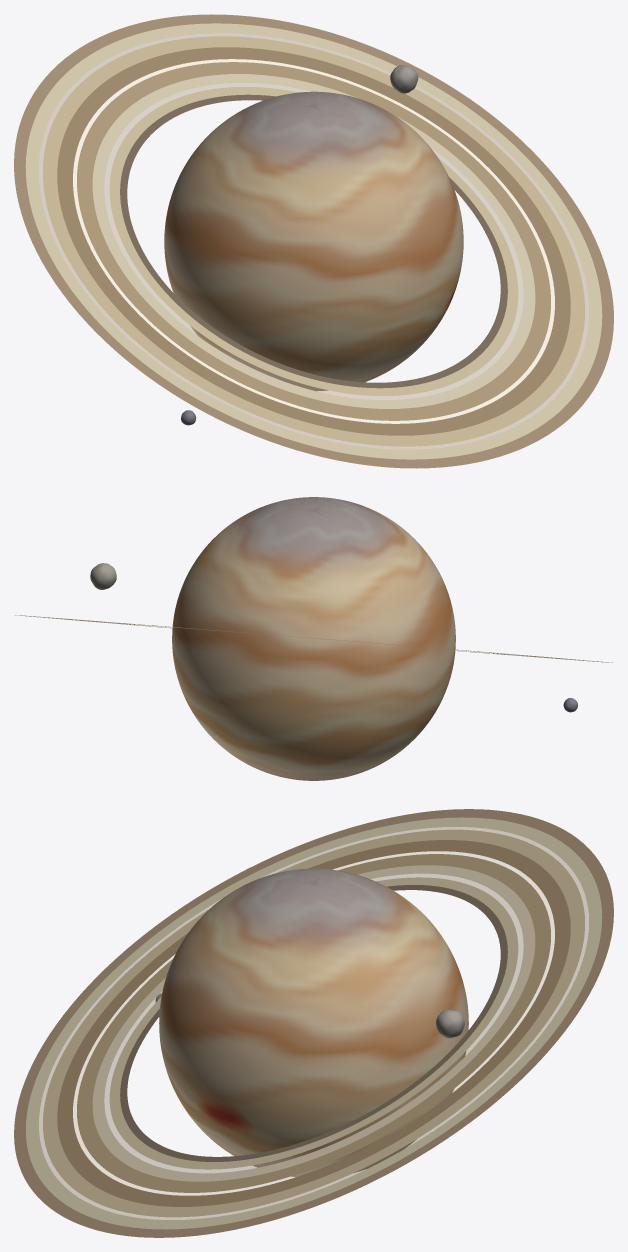
File: world-space.glb
The picture shows the model from 3 angles, top to bottom: view 1: azimuth 30°, elevation 25°; view 2: azimuth 150°, elevation 25°; view 3: azimuth 270°, elevation 25°; orthographic projection. The views are drawn at different scales.
Visible parts, largest first — view 1: ringed-planet.body; view 2: ringed-planet.body; view 3: ringed-planet.body.
Part boxes in pixels (<box>): ringed-planet.body: <box>14,14,613,468</box>; ringed-planet.body: <box>15,497,612,780</box>; ringed-planet.body: <box>14,809,613,1237</box>.
Size of the model in its own units: 906 by 432 by 837.
